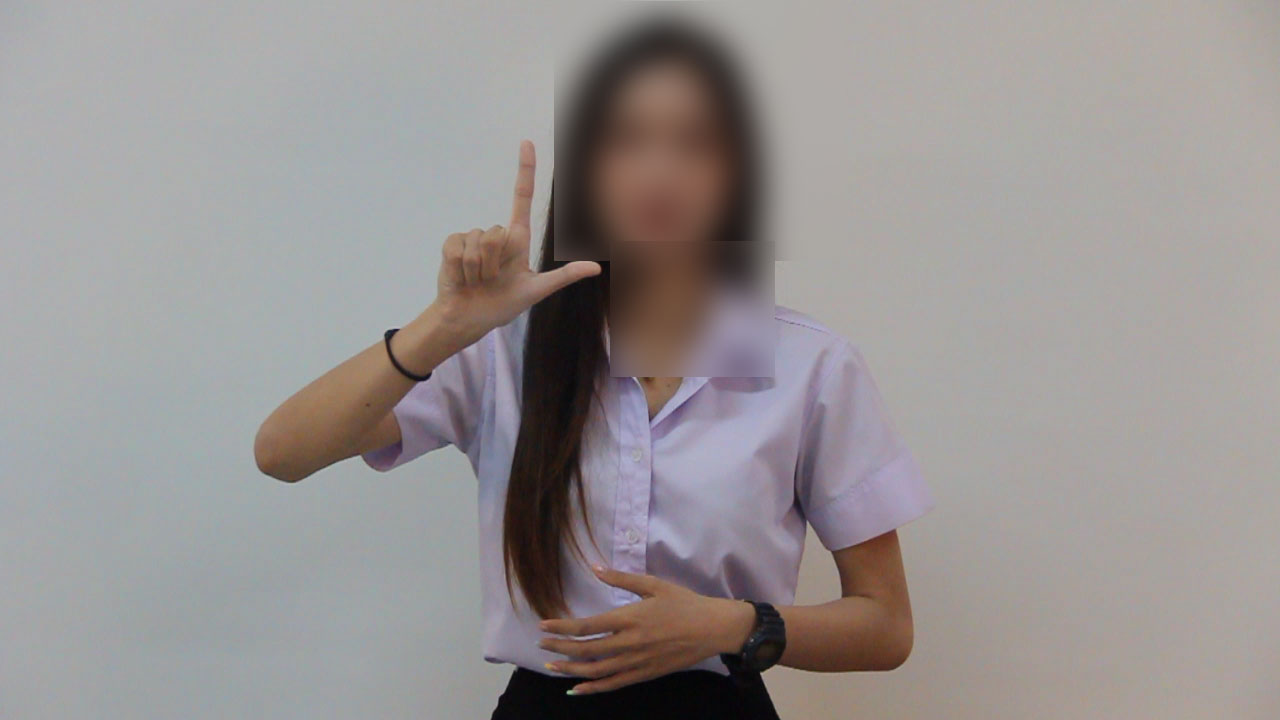lor: (425, 132, 609, 351)
